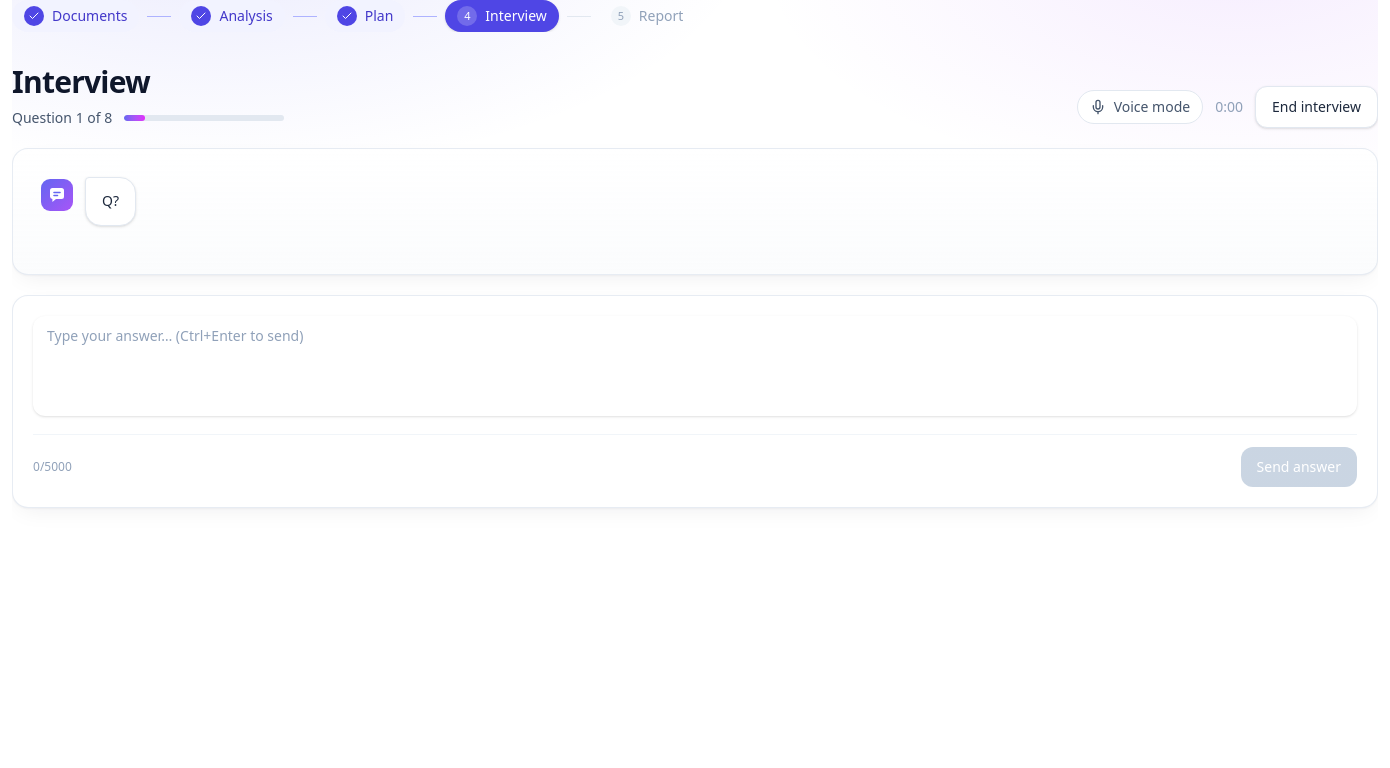
Test case: voice mode in the interview room › appends a transcript to what was already typed
The width and height of the screenshot is (1390, 768).
Click the switch labelled "Voice mode" at (1140, 107), box [1077, 90, 1203, 124]
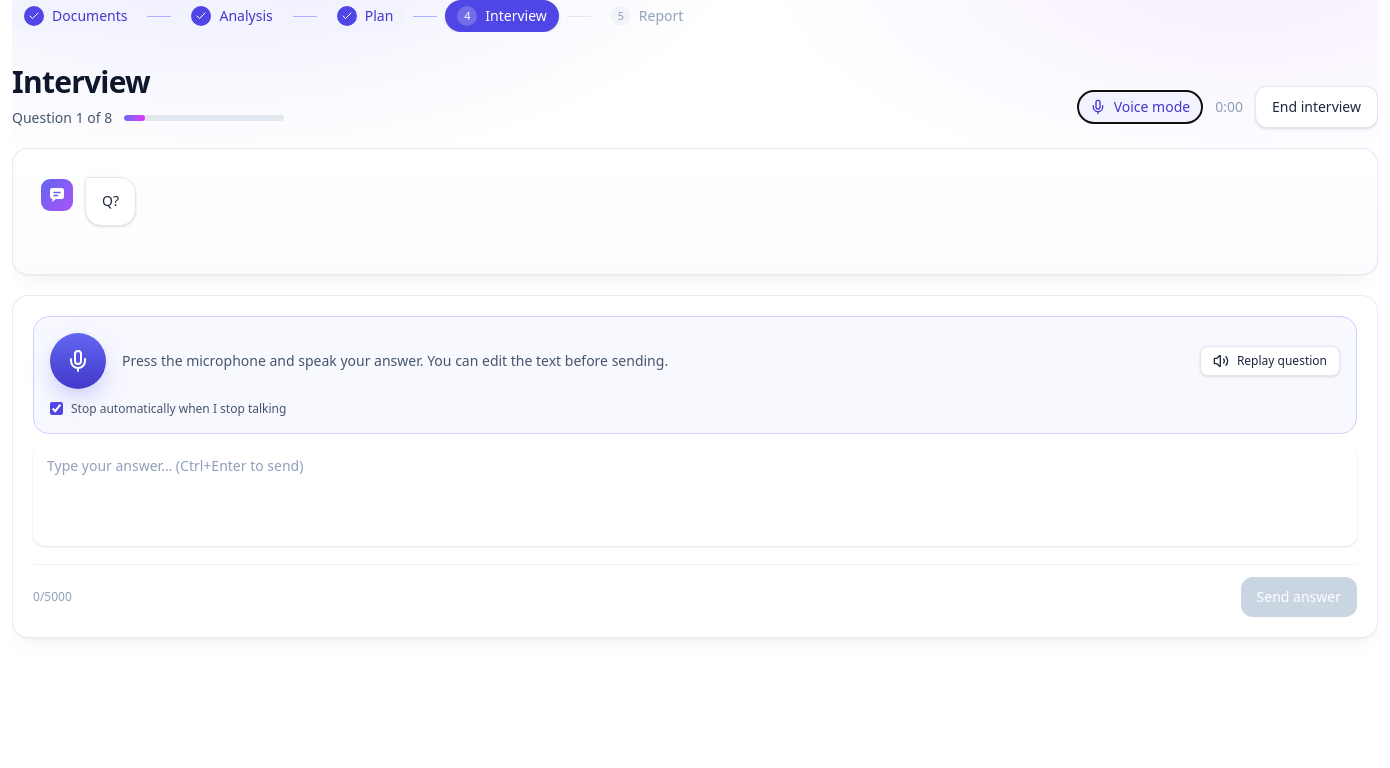
Type "Short intro." into the text box labelled "your answer" at (695, 496), box [33, 446, 1357, 546]
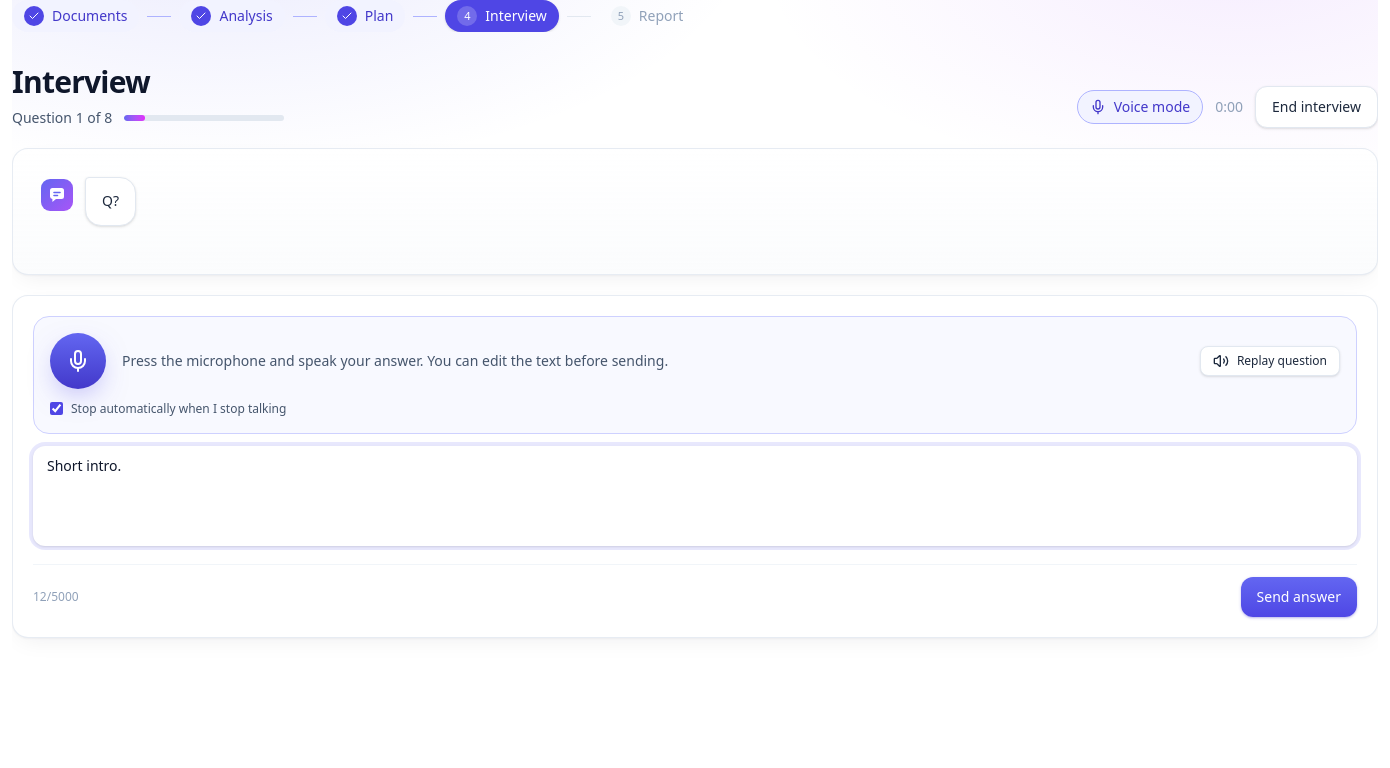
Click the button named "Record answer" at (78, 361), box [50, 333, 106, 389]
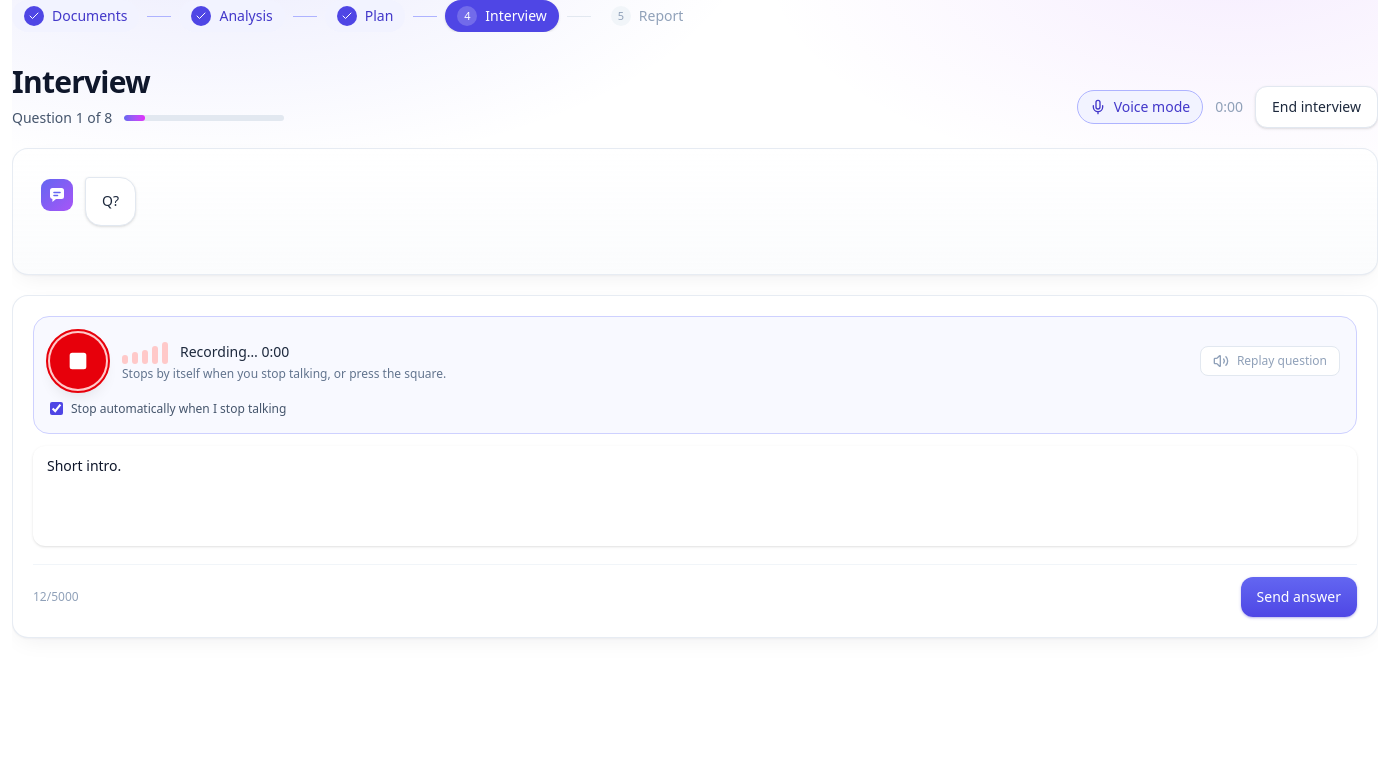
Click the button named "Stop recording" at (78, 361), box [50, 333, 106, 389]
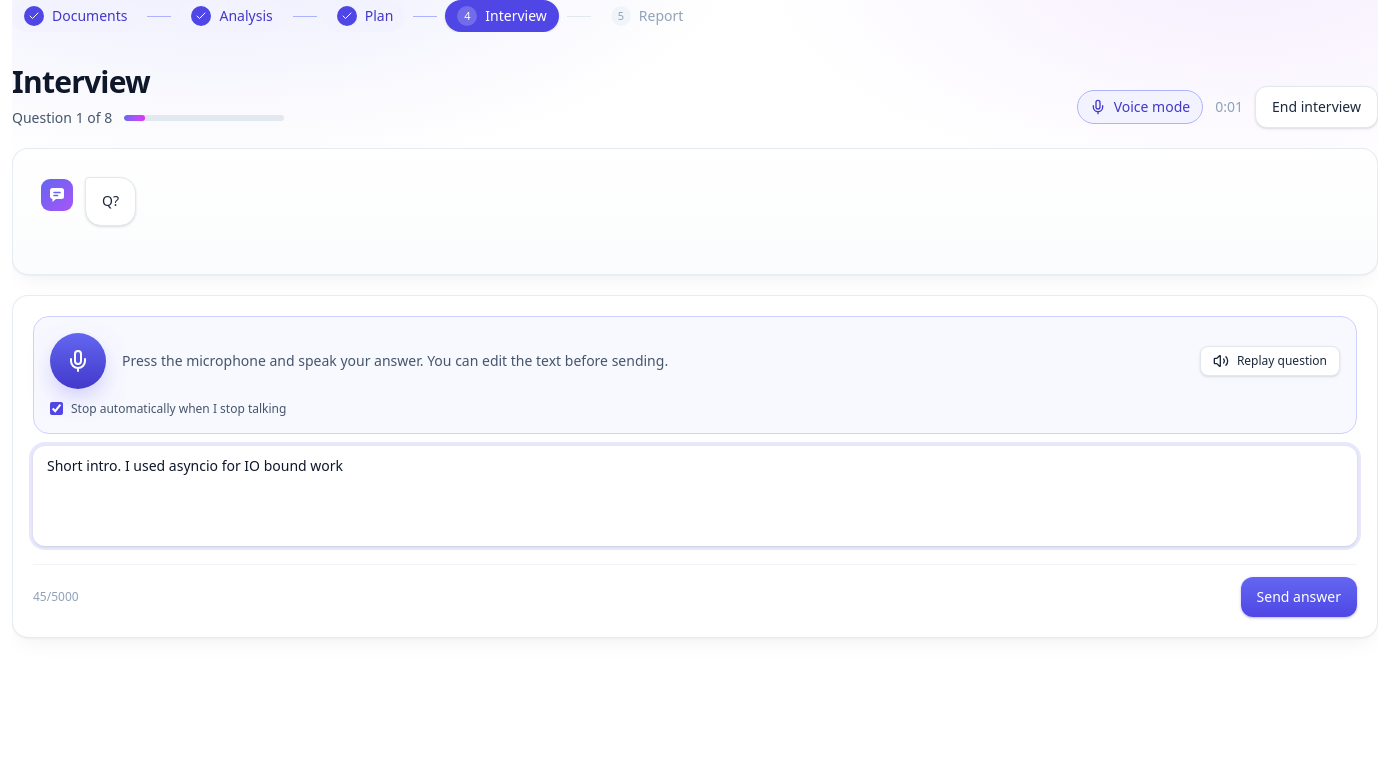
Check: the text box showing "Short intro. I used asyncio for IO bound work" is shown, box [33, 446, 1357, 546]
